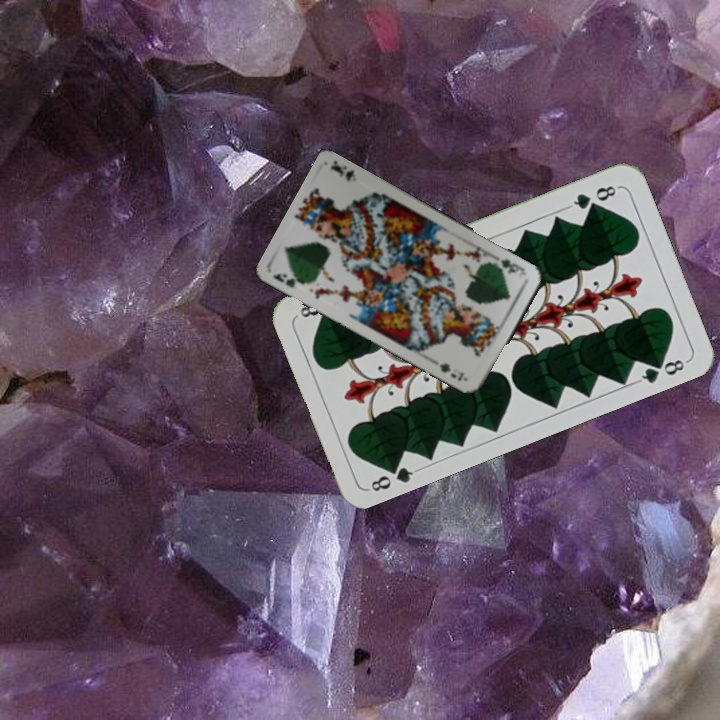G8: (365, 457, 421, 495), (565, 181, 621, 212)
GK: (490, 255, 529, 280), (269, 269, 310, 290)
